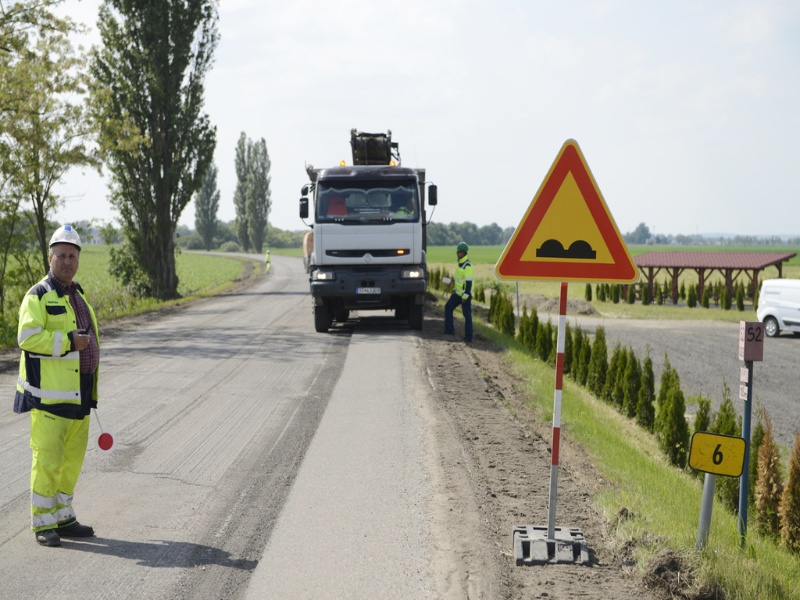uneven_road_ahead: (492, 136, 644, 284)
